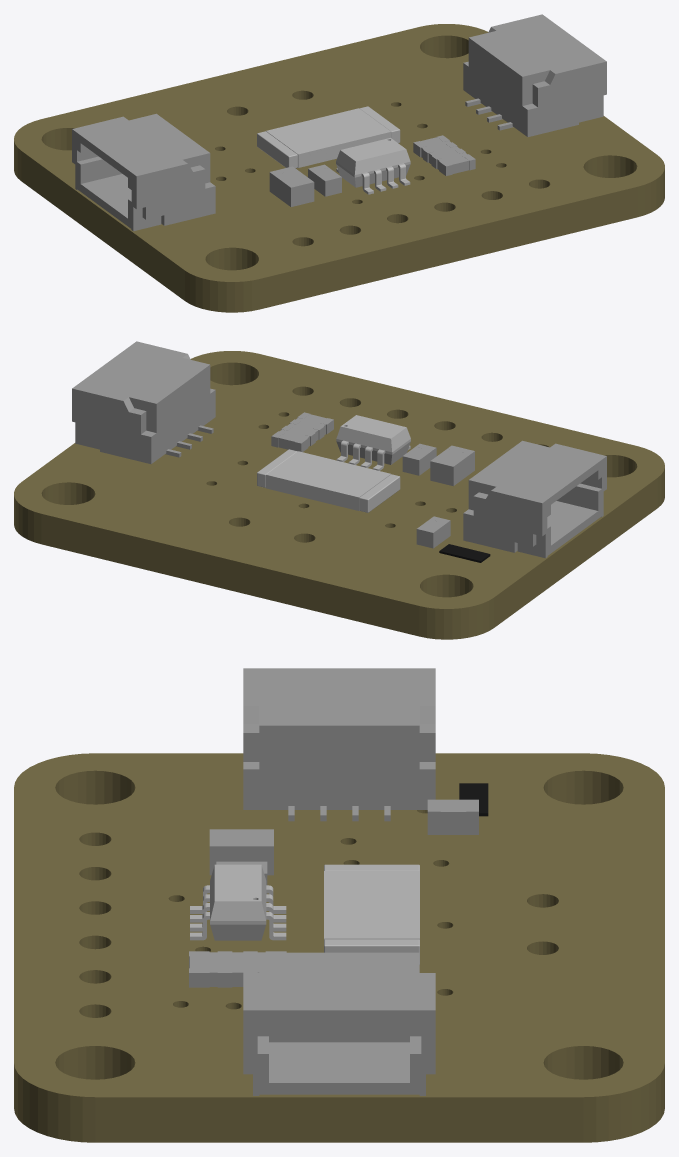
File: adafruit-904-ina219.glb
3 views of the same model, one above another, from view 1: azimuth 30°, elevation 25°; view 2: azimuth 150°, elevation 25°; view 3: azimuth 270°, elevation 25° (orthographic). The views are drawn at different scales.
Parts seen in each view (by area): view 1: colour 1, colour 3, colour 2; view 2: colour 1, colour 3, colour 2, colour 4; view 3: colour 1, colour 3, colour 2.
Part boxes in pixels (left/top/right/bottom): colour 1: left=14, top=24, right=664, bottom=312; colour 3: left=72, top=14, right=606, bottom=231; colour 2: left=257, top=106, right=410, bottom=194; colour 1: left=14, top=351, right=664, bottom=639; colour 3: left=72, top=341, right=606, bottom=558; colour 2: left=257, top=415, right=410, bottom=512; colour 4: left=439, top=544, right=490, bottom=562; colour 1: left=14, top=753, right=664, bottom=1142; colour 3: left=189, top=668, right=478, bottom=1095; colour 2: left=190, top=864, right=419, bottom=964.
Bounding box in the file's own units: 0.0254 × 0.00453 × 0.0203.
